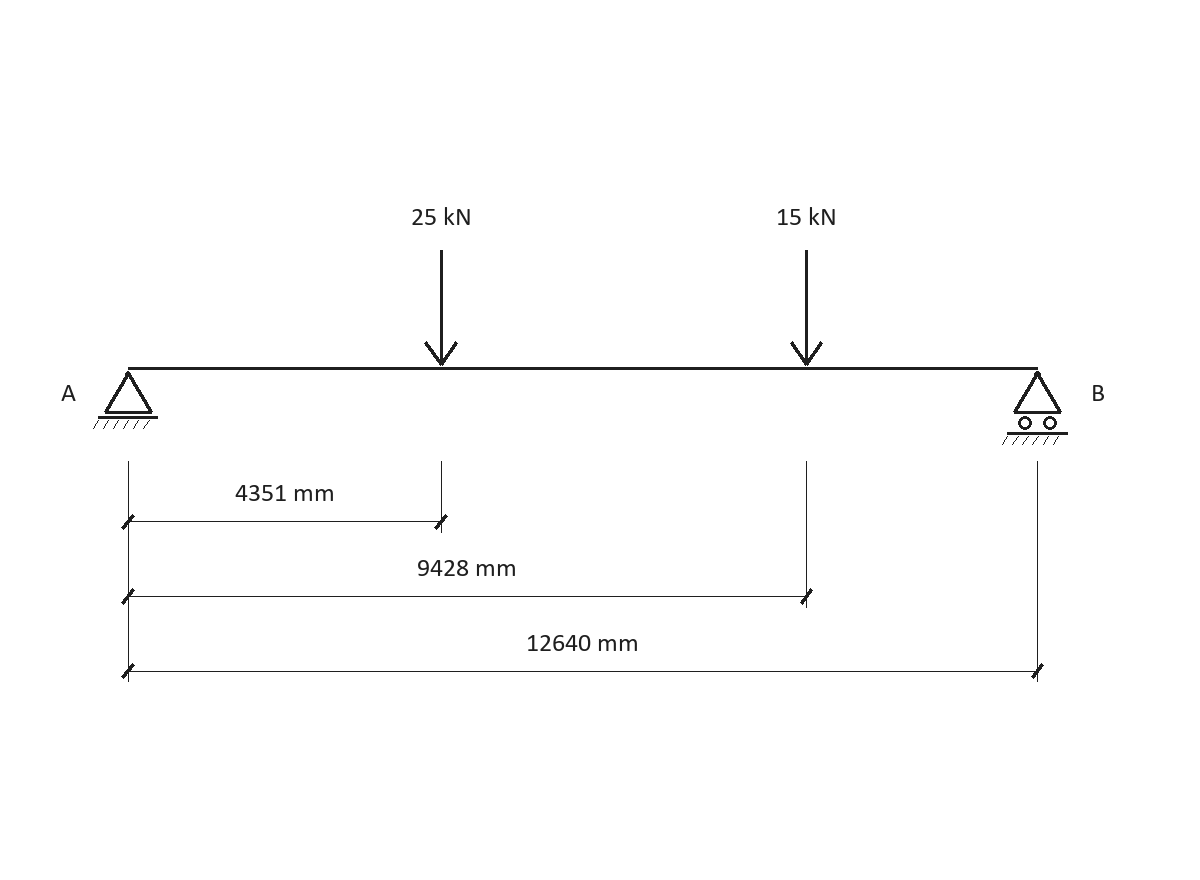pin_support: (93, 371, 158, 429)
point_load: (424, 250, 458, 366), (790, 250, 823, 366)
roller_support: (1002, 371, 1068, 445)
